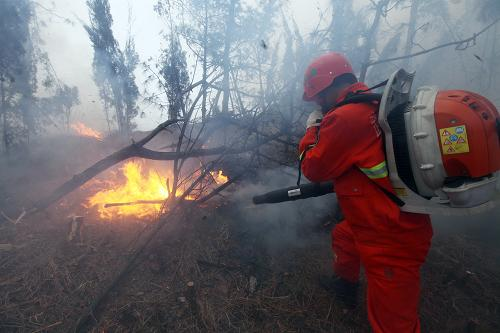fire: (82, 154, 195, 210), (74, 120, 104, 142), (208, 165, 233, 189)
